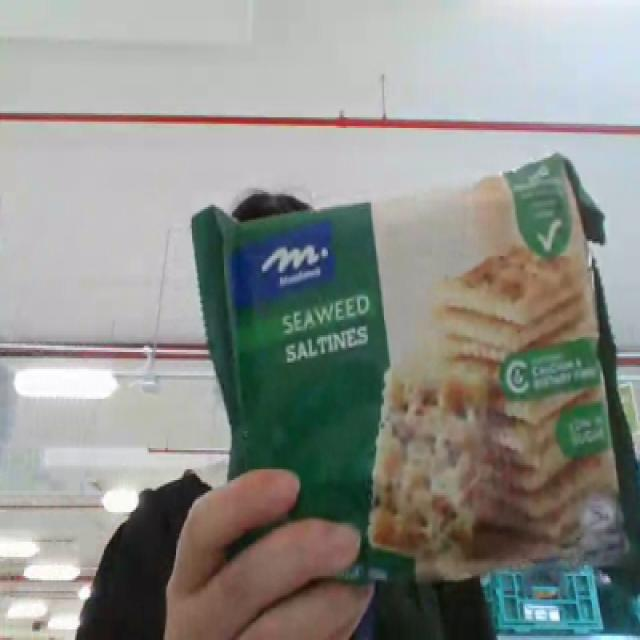object_name: (216, 215, 637, 563)
